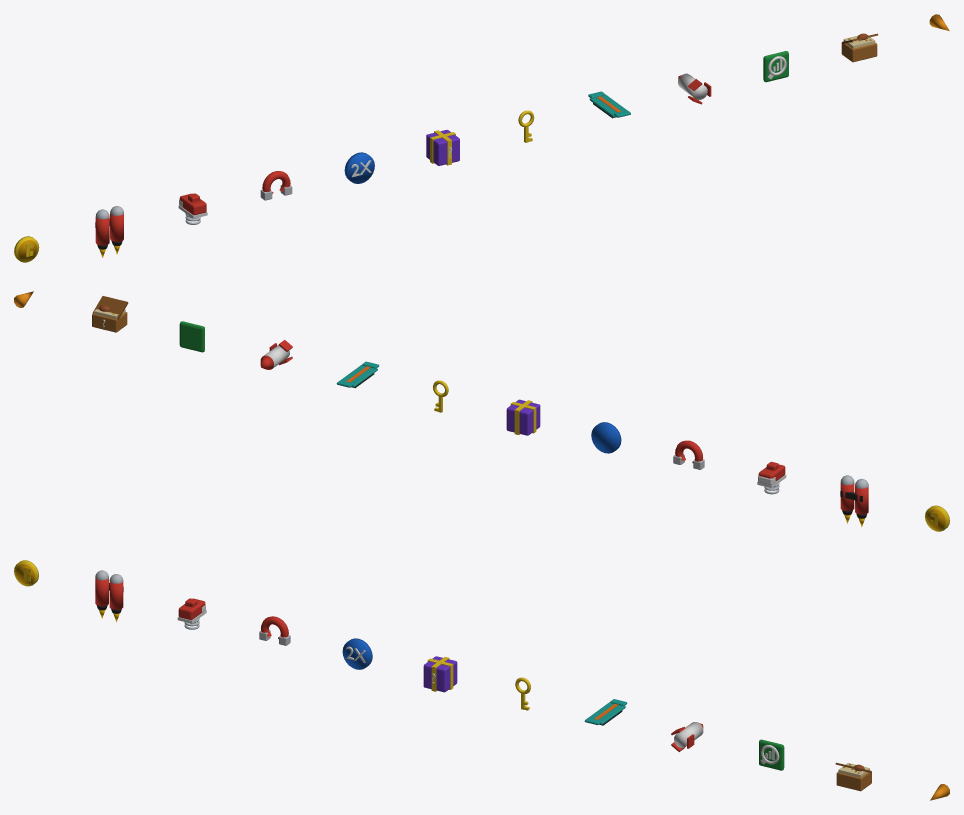
File: pickups.glb
3 views of the same model, one above another, from view 1: azimuth 30°, elevation 25°; view 2: azimuth 150°, elevation 25°; view 3: azimuth 330°, elevation 25° (orthographic).
Visible parts, largest first — view 1: jetpack, mystery_box, biryani, multiplier, msg_bubble, sneakers, headstart, hoverboard, magnet; view 2: jetpack, mystery_box, biryani, multiplier, msg_bubble, sneakers, headstart, hoverboard, magnet, coin; view 3: jetpack, mystery_box, biryani, multiplier, msg_bubble, sneakers, headstart, hoverboard, magnet, coin.
Part boxes in pixels (x1,y1,x2,y2): jetpack: (95, 206, 123, 257); mystery_box: (426, 130, 459, 165); biryani: (841, 33, 878, 62); multiplier: (344, 152, 374, 183); msg_bubble: (763, 51, 788, 82); sneakers: (178, 193, 207, 224); headstart: (678, 73, 711, 104); hoverboard: (588, 91, 630, 118); magnet: (260, 171, 292, 200); jetpack: (840, 475, 868, 527); mystery_box: (506, 399, 540, 435); biryani: (92, 296, 128, 332); multiplier: (591, 422, 621, 453); msg_bubble: (179, 321, 204, 352); sneakers: (757, 461, 786, 494); headstart: (260, 340, 292, 369); hoverboard: (336, 361, 379, 388); magnet: (673, 440, 704, 469); coin: (925, 505, 949, 531); jetpack: (95, 570, 123, 622); mystery_box: (423, 656, 457, 692); biryani: (835, 762, 871, 791); multiplier: (342, 638, 372, 669); msg_bubble: (759, 739, 784, 770); sneakers: (177, 598, 206, 629); headstart: (671, 722, 703, 751); hoverboard: (584, 699, 627, 725); magnet: (259, 616, 290, 645); coin: (14, 560, 38, 586).
Bounding box in the file's own units: 33.63 × 1.67 × 1.85.
